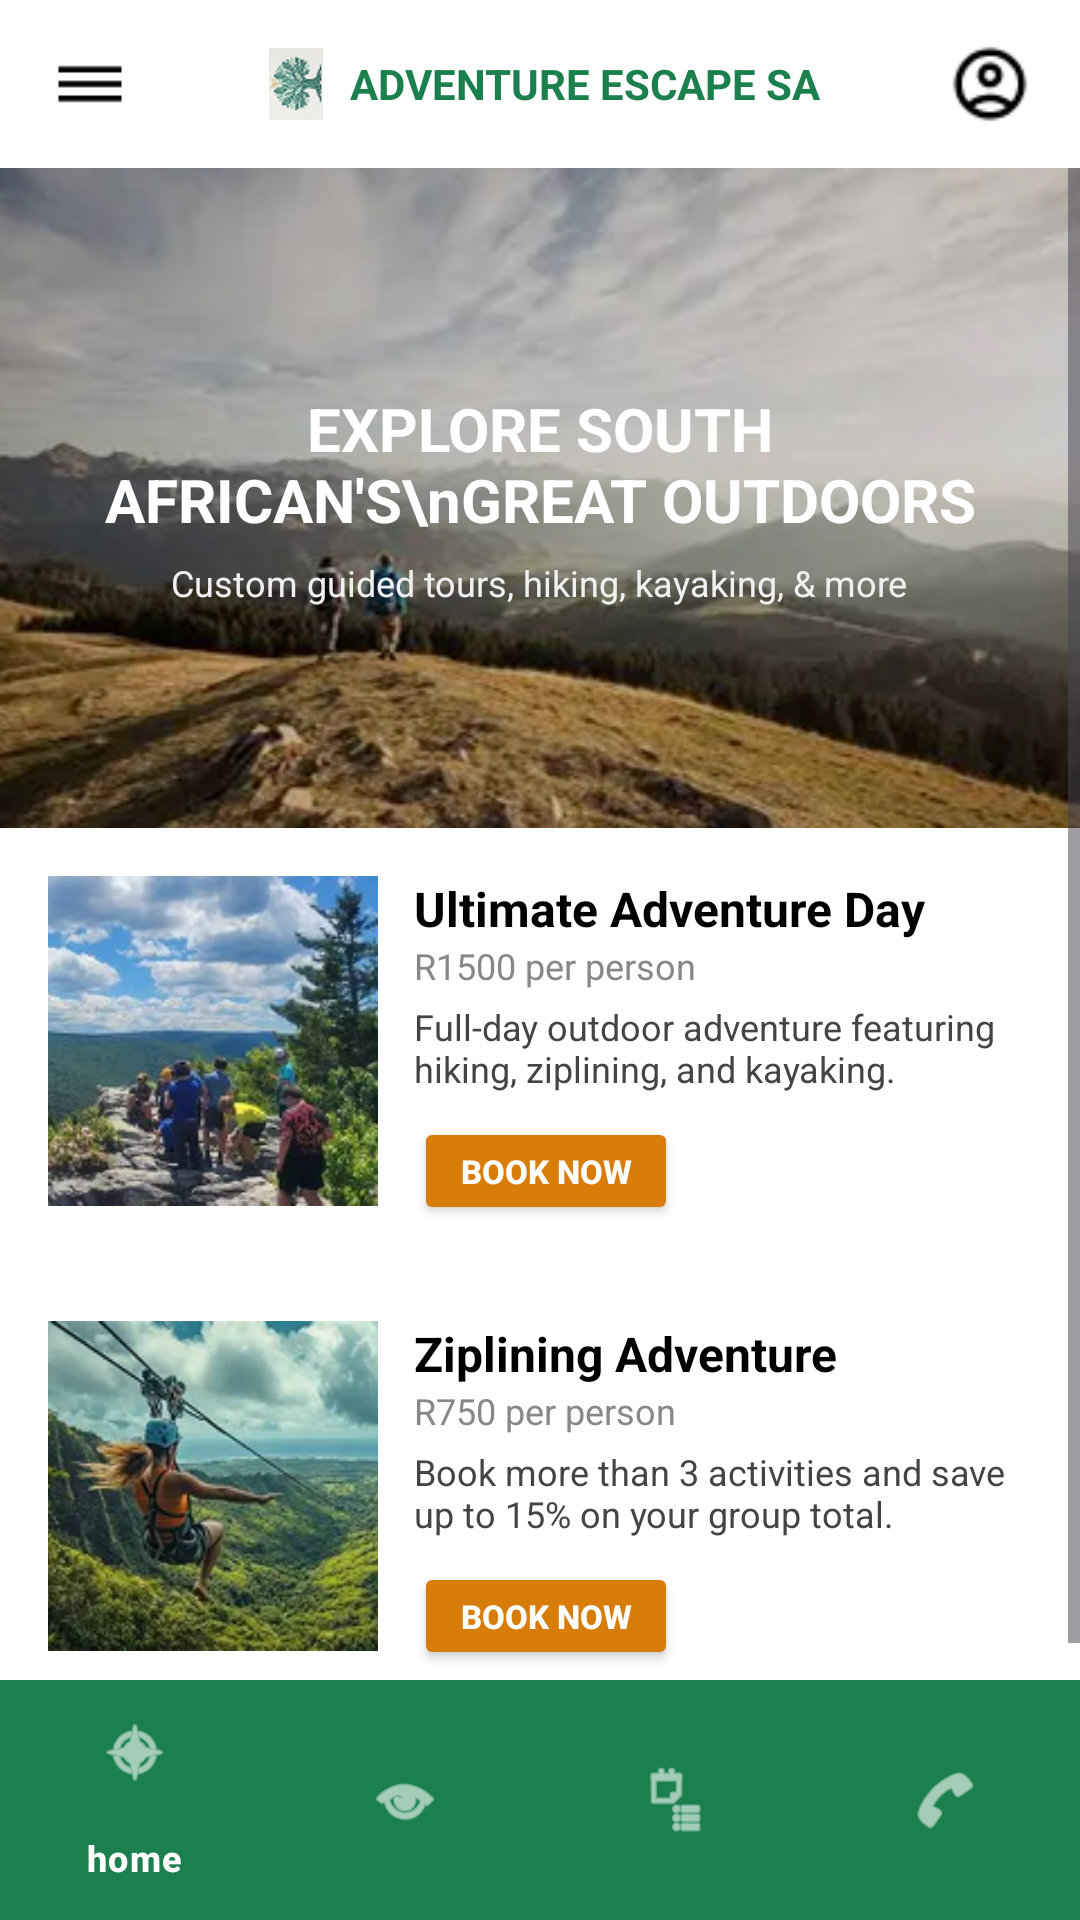

Locate icon controls on the screen. Image size 1080*1920, boxes as {"left": x1, "top": y1, "right": x2, "bottom": y2}.
Menu: {"left": 58, "top": 65, "right": 122, "bottom": 103}
Profile: {"left": 953, "top": 47, "right": 1027, "bottom": 121}
